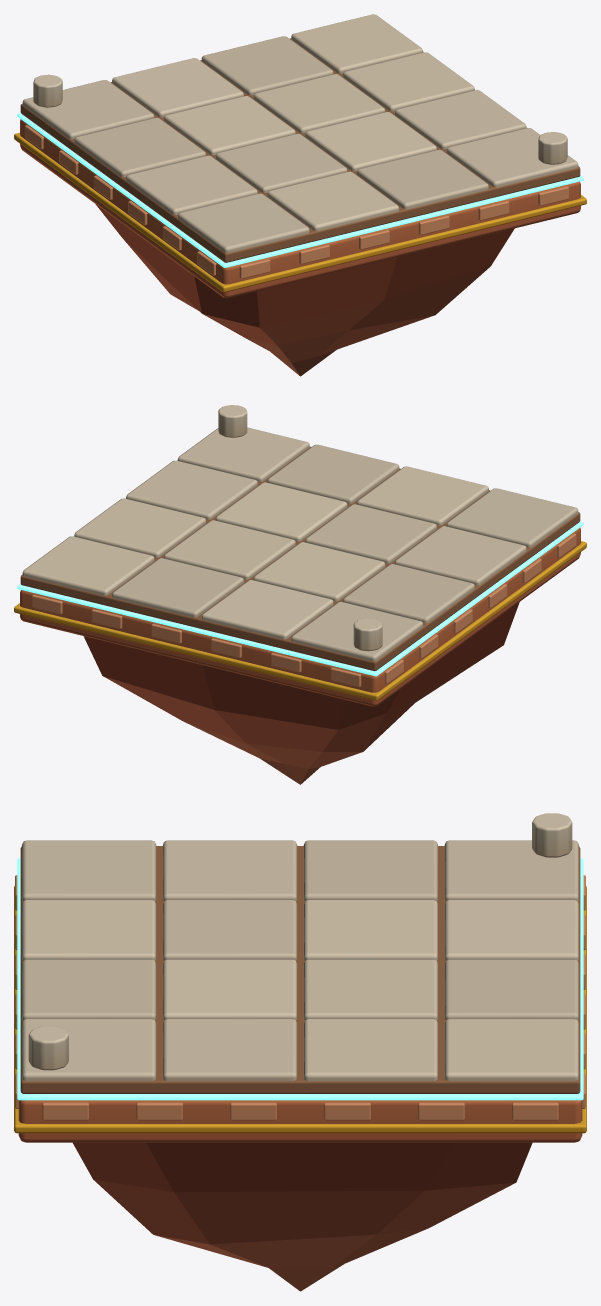
File: PLAT_Ruin_Wide.glb
The picture shows the model from 3 angles, top to bottom: view 1: azimuth 30°, elevation 25°; view 2: azimuth 150°, elevation 25°; view 3: azimuth 270°, elevation 25°; orthographic projection. The views are drawn at different scales.
Parts seen in each view (by area): view 1: Stone, EdgeGlow; view 2: Stone, EdgeGlow; view 3: Stone, EdgeGlow.
Boxes of the visible parts, box(x1,y1,x2,y2) form: Stone: box(14, 14, 586, 376); EdgeGlow: box(17, 113, 583, 267); Stone: box(14, 405, 586, 784); EdgeGlow: box(17, 521, 583, 676); Stone: box(14, 813, 586, 1291); EdgeGlow: box(17, 858, 583, 1100).
Size of the model in its own units: 6.1 by 4.28 by 6.1.
